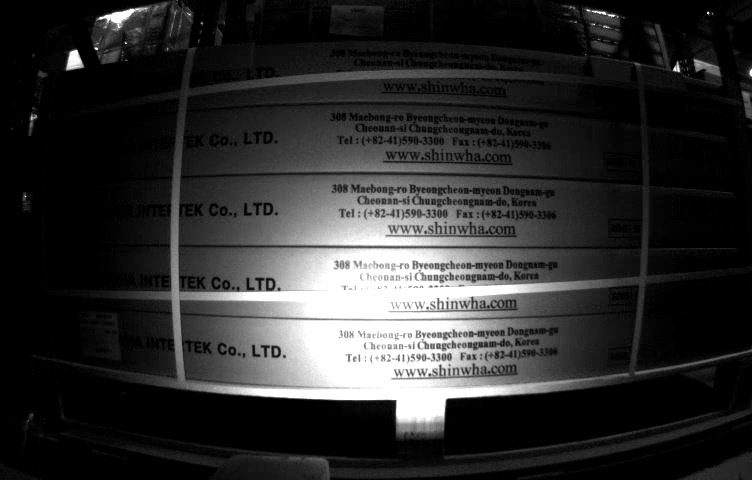True Barcode: (76, 311, 125, 361)
